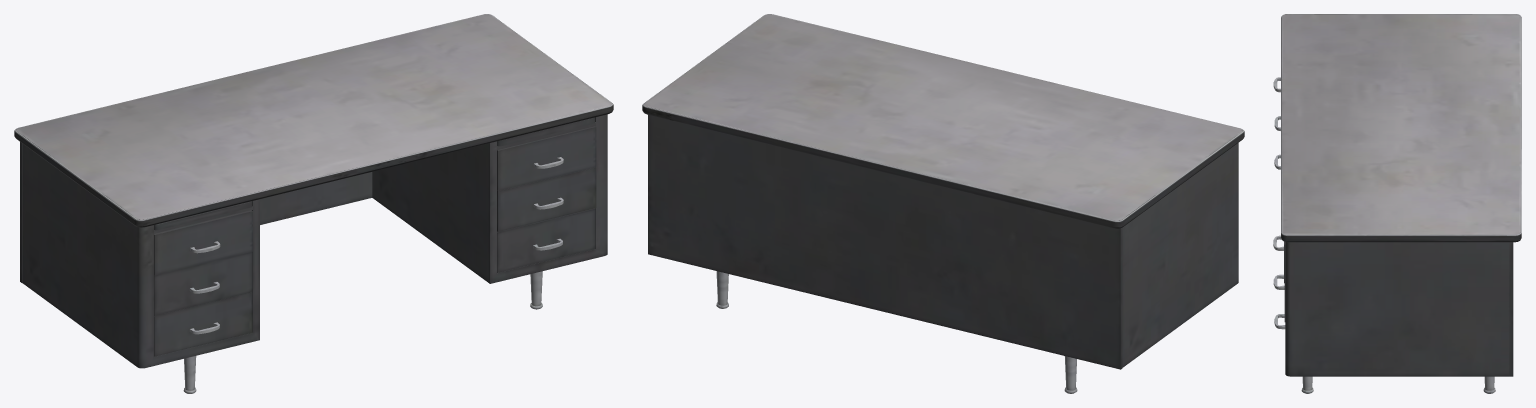
File: metal_office_desk.glb
3 renders of one model, left to right at view 1: azimuth 30°, elevation 25°; view 2: azimuth 150°, elevation 25°; view 3: azimuth 270°, elevation 25°, orthographic. The views are drawn at different scales.
Visible parts, largest first — view 1: metal_office_desk_drawer_06; view 2: metal_office_desk_drawer_06; view 3: metal_office_desk_drawer_06.
Boxes of the visible parts, bbox=[...] form: metal_office_desk_drawer_06: bbox=[14, 14, 613, 393]; metal_office_desk_drawer_06: bbox=[642, 14, 1244, 393]; metal_office_desk_drawer_06: bbox=[1273, 14, 1521, 393].
Size of the model in its own units: 2 by 0.7874 by 0.9469.
1 material, 1 textured.
